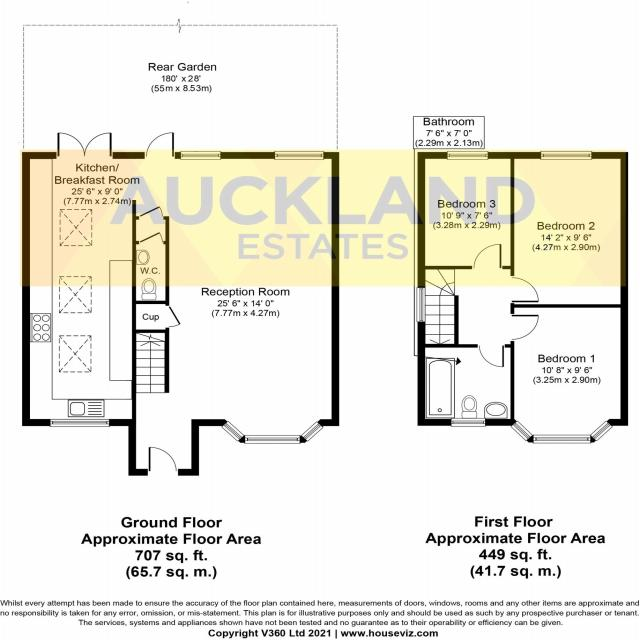DOOR: (149, 446, 179, 477), (143, 132, 175, 159), (511, 314, 539, 342), (511, 275, 540, 302), (471, 244, 502, 267), (479, 345, 504, 367)
DOUBLE DOOR: (57, 130, 114, 159)
ROOM: (21, 131, 340, 476), (511, 151, 628, 309), (511, 304, 629, 445)
WINDOW: (219, 419, 326, 444), (510, 420, 614, 444), (540, 149, 594, 162), (49, 417, 111, 428), (508, 418, 532, 442), (274, 150, 324, 161), (446, 149, 489, 161), (181, 150, 222, 160), (416, 287, 426, 324), (449, 418, 486, 428)
